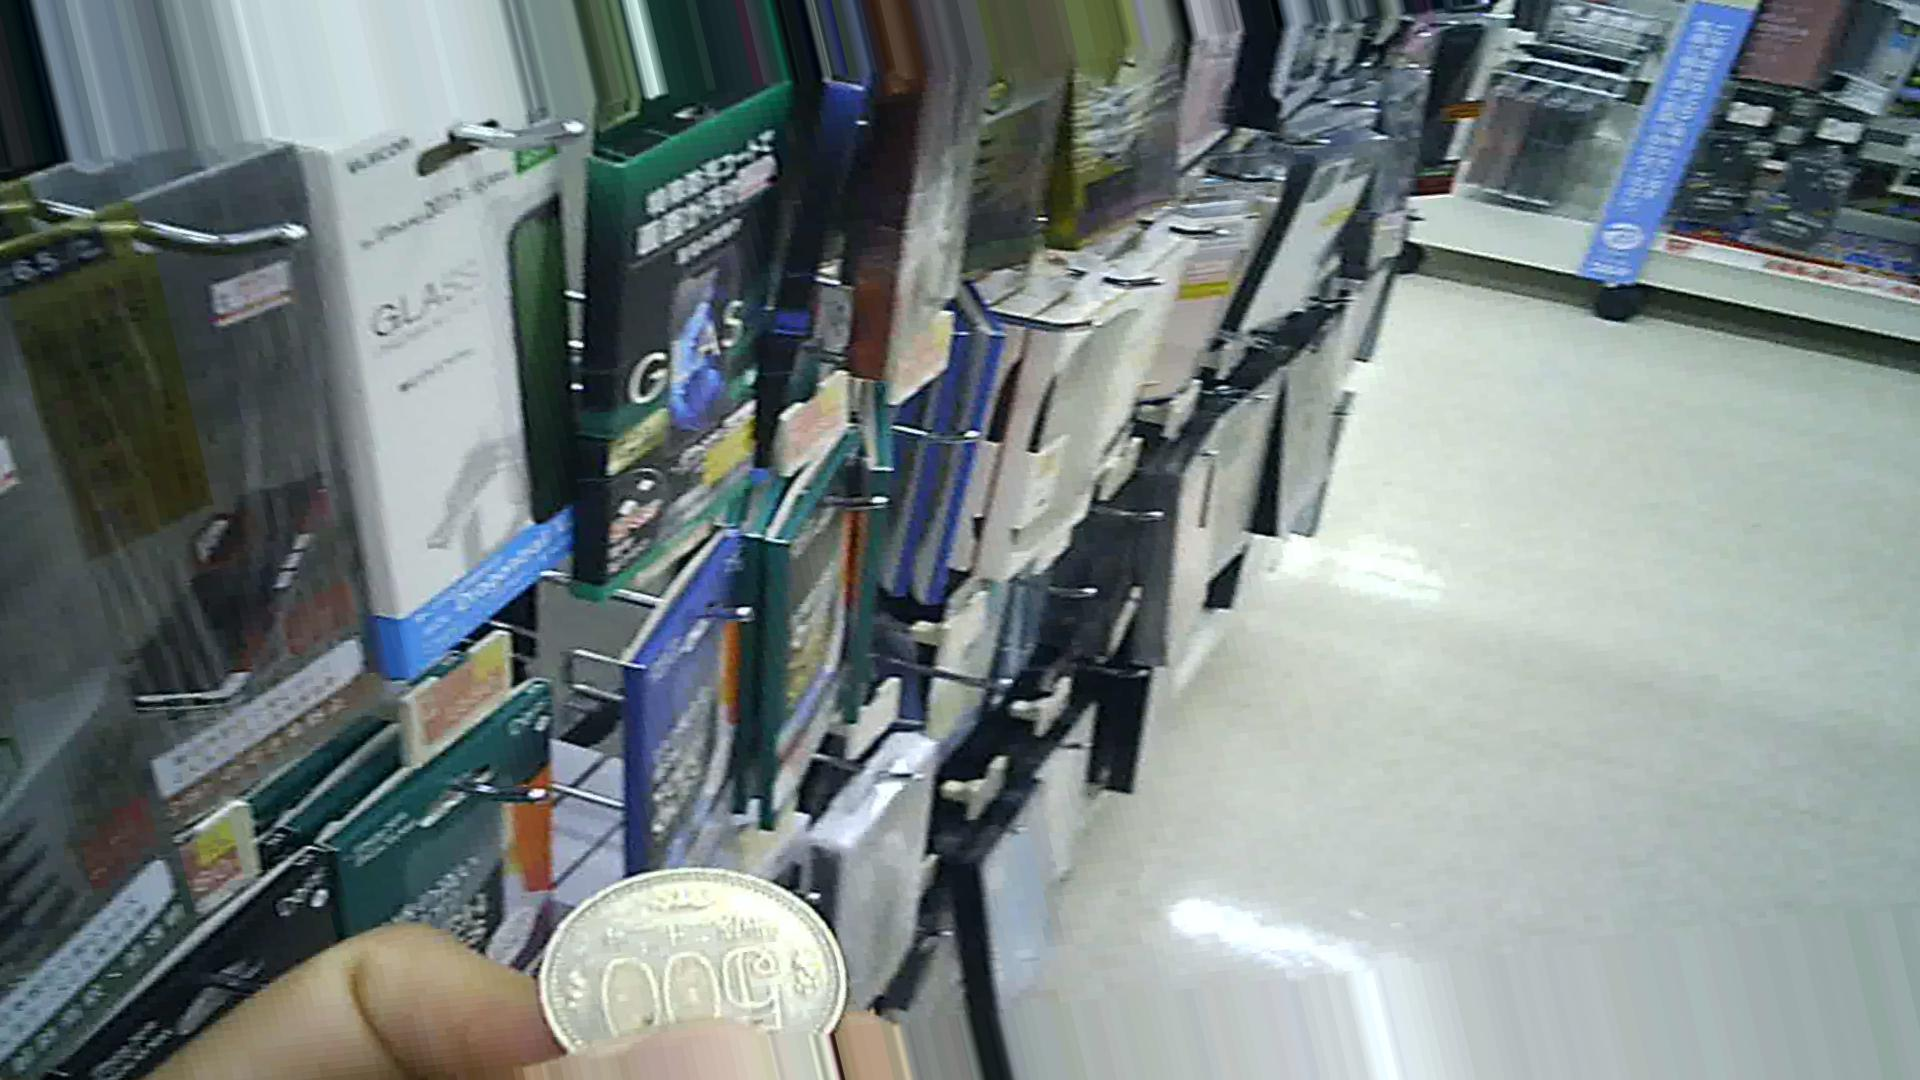500 Yen: (522, 864, 845, 1068)
